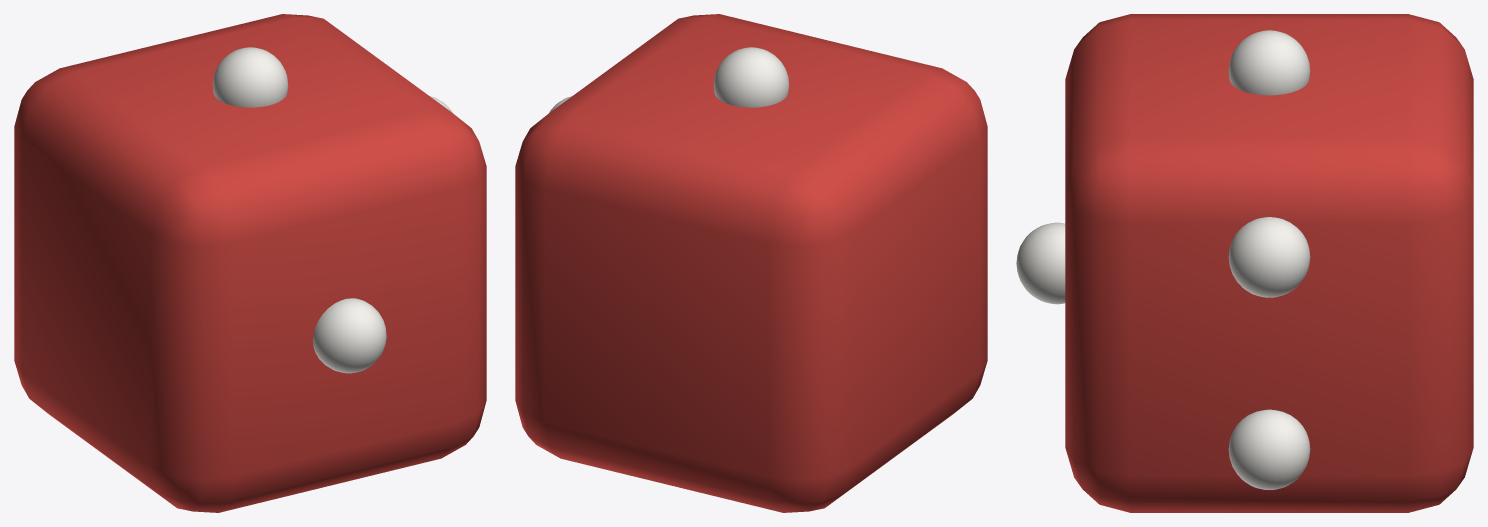
File: die.glb
3 renders of one model, left to right at view 1: azimuth 30°, elevation 25°; view 2: azimuth 150°, elevation 25°; view 3: azimuth 270°, elevation 25°, orthographic. The views are drawn at different scales.
Parts seen in each view (by area): view 1: die, pip(0, -0.026, 0.025), pip(0, 0, 0.051); view 2: die, pip(0, 0, 0.051); view 3: die, pip(0.026, 0, 0.038), pip(0.026, 0, 0.012), pip(0, 0, 0.051), pip(0, -0.026, 0.025).
Part boxes in pixels (<box>): die: <box>14,14,486,512</box>; pip(0, -0.026, 0.025): <box>313,298,386,373</box>; pip(0, 0, 0.051): <box>212,47,288,107</box>; die: <box>515,14,987,512</box>; pip(0, 0, 0.051): <box>713,47,789,107</box>; die: <box>1065,14,1473,512</box>; pip(0.026, 0, 0.038): <box>1228,217,1310,297</box>; pip(0.026, 0, 0.012): <box>1228,409,1310,489</box>; pip(0, 0, 0.051): <box>1228,30,1310,95</box>; pip(0, -0.026, 0.025): <box>1016,222,1065,304</box>.
Bounding box in the file's own units: 0.056 × 0.056 × 0.056.
